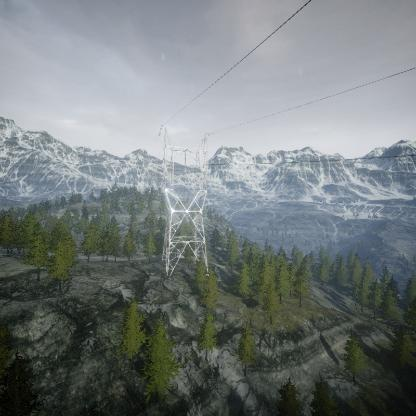tower: (156, 119, 217, 280)
